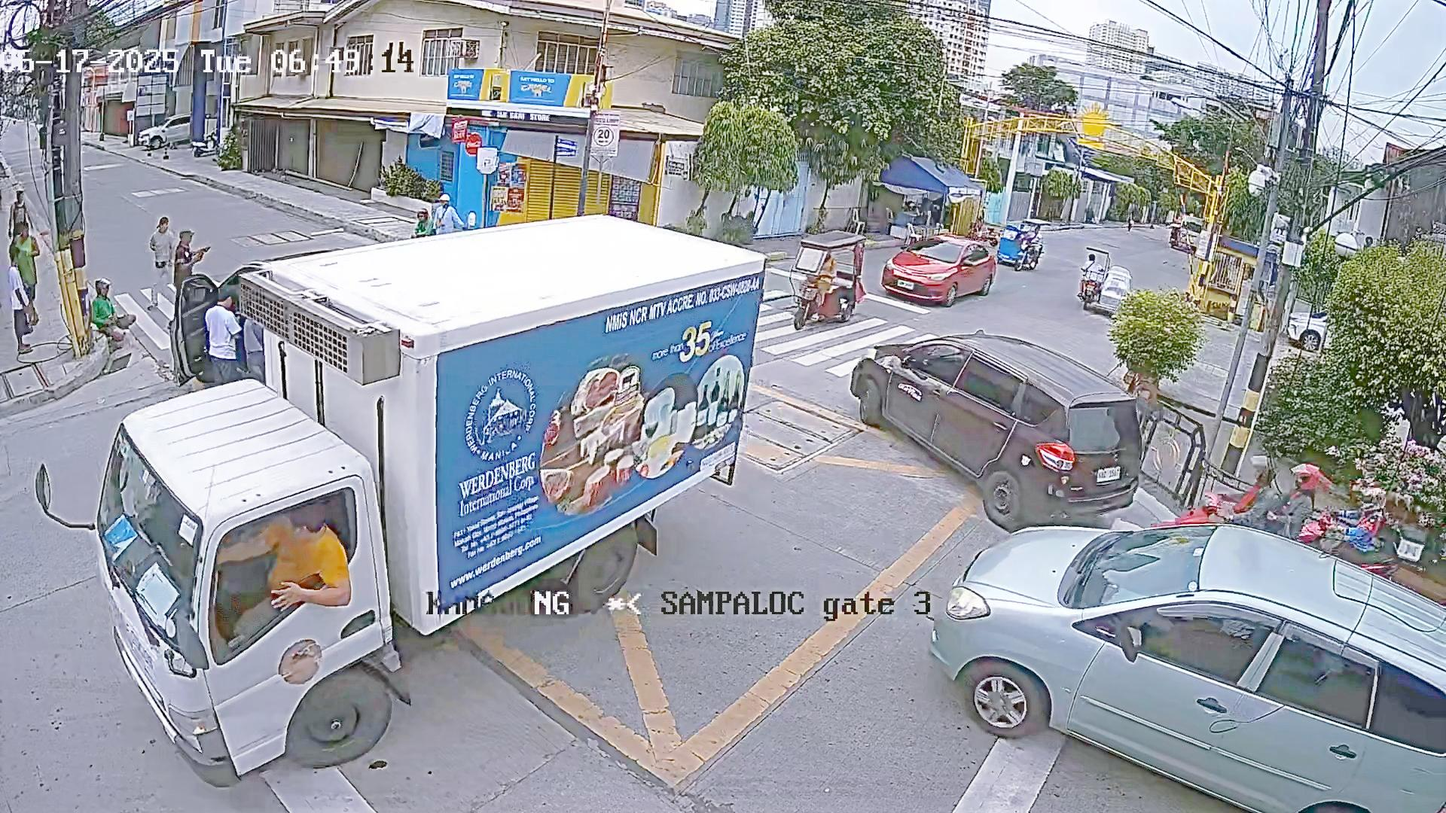Car: (58, 203, 794, 792), (889, 484, 1446, 813), (828, 306, 1172, 518), (884, 226, 1002, 313)
Motor: (1202, 431, 1344, 545), (1336, 456, 1426, 583)
